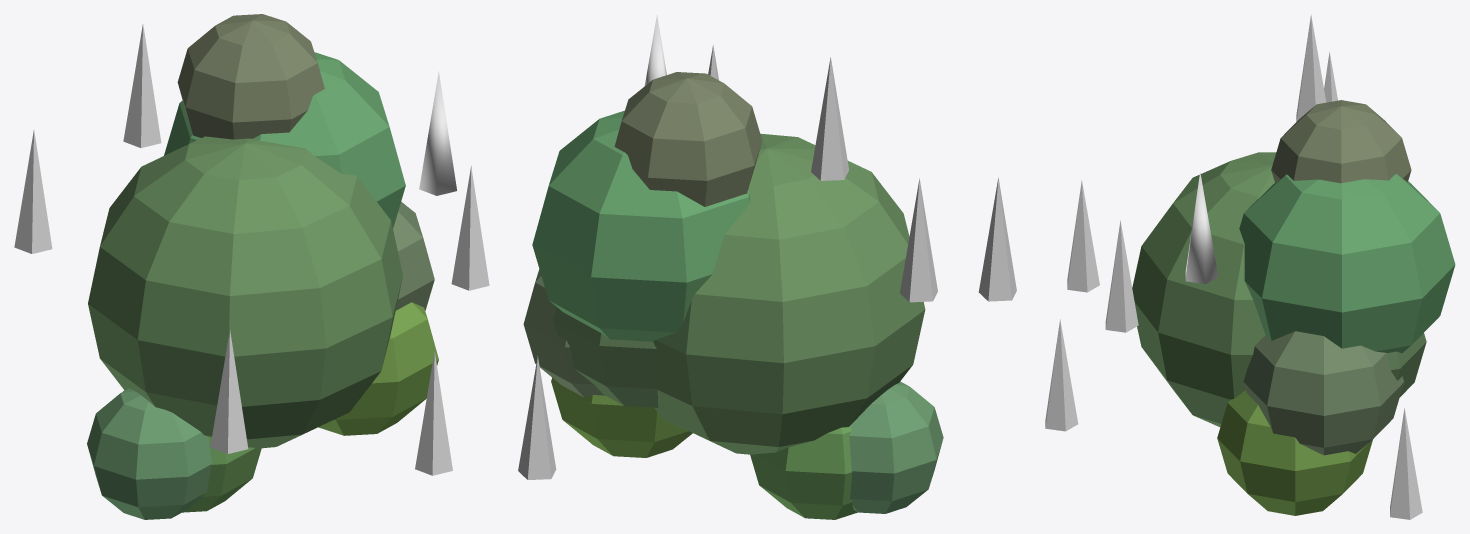
The model's file is bush_spiky_v1.glb.
3 renders of one model, left to right at view 1: azimuth 30°, elevation 25°; view 2: azimuth 150°, elevation 25°; view 3: azimuth 270°, elevation 25°, orthographic. The views are drawn at different scales.
Parts seen in each view (by area): view 1: bush_center, Sphere, Sphere.004, Sphere.002, Sphere.003, Sphere.001, Cone.003, Cone.006, Cone.004, Cone.001, Cone.002, Cone.005 (+1 smaller); view 2: bush_center, Sphere.002, Sphere, Sphere.004, Sphere.005, Sphere.006, Sphere.003, Sphere.001, Cone, Cone.002, Cone.004, Cone.005 (+1 smaller); view 3: Sphere.002, bush_center, Sphere.001, Sphere.003, Sphere, Cone.003, Cone.001, Cone.005, Cone.006, Cone, Cone.004, Sphere.006.
Boxes of the visible parts, box(x1,y1,x2,y2) form: bush_center: box(88, 136, 402, 448); Sphere: box(177, 14, 324, 139); Sphere.004: box(87, 388, 211, 519); Sphere.002: box(164, 52, 405, 228); Sphere.003: box(318, 302, 438, 435); Sphere.001: box(393, 201, 434, 310); Cone.003: box(451, 166, 489, 290); Cone.006: box(419, 71, 456, 195); Cone.004: box(123, 24, 161, 147); Cone.001: box(415, 351, 452, 475); Cone.002: box(14, 129, 52, 253); Cone.005: box(210, 330, 248, 453); bush_center: box(653, 133, 925, 454); Sphere.002: box(532, 110, 750, 341); Sphere: box(614, 72, 762, 206); Sphere.004: box(849, 381, 943, 513); Sphere.005: box(750, 425, 858, 519); Sphere.006: box(553, 307, 658, 407); Sphere.003: box(551, 378, 692, 457); Sphere.001: box(523, 269, 604, 397); Cone: box(518, 356, 556, 479); Cone.002: box(900, 178, 937, 302); Cone.004: box(811, 57, 848, 180); Cone.005: box(978, 177, 1016, 301); Sphere.002: box(1239, 174, 1455, 353); bush_center: box(1132, 152, 1276, 426); Sphere.001: box(1243, 331, 1403, 455); Sphere.003: box(1217, 390, 1372, 515); Sphere: box(1271, 100, 1411, 183); Cone.003: box(1105, 220, 1138, 332); Cone.001: box(1045, 319, 1078, 431); Cone.005: box(1067, 180, 1099, 292); Cone.006: box(1185, 172, 1218, 283); Cone: box(1390, 408, 1422, 519); Cone.004: box(1296, 14, 1326, 121); Sphere.006: box(1387, 333, 1426, 397).
Bounding box in the file's own units: 1.16 × 1.3 × 1.13.
